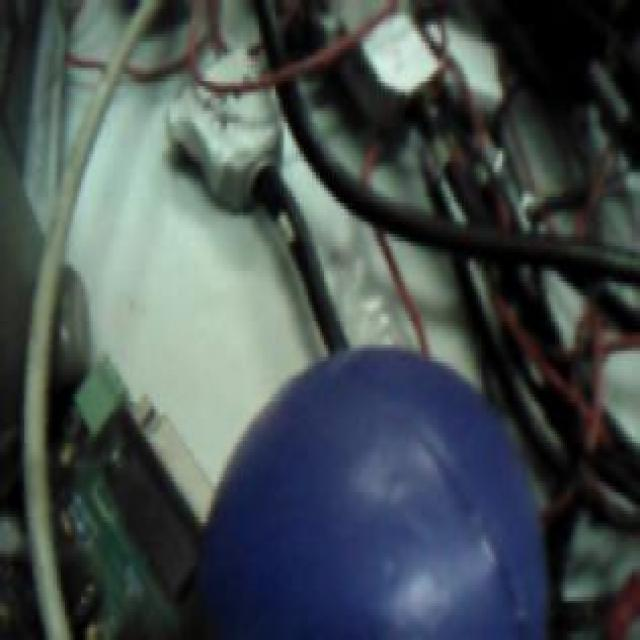BallPurple: (200, 346, 548, 640)
